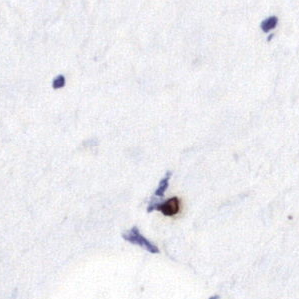Lymphocyte: (159, 196, 182, 218)
